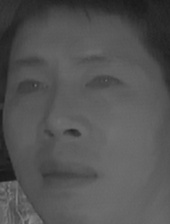eye: (83, 70, 124, 95), (14, 76, 49, 100)
mouth: (36, 153, 101, 193)
